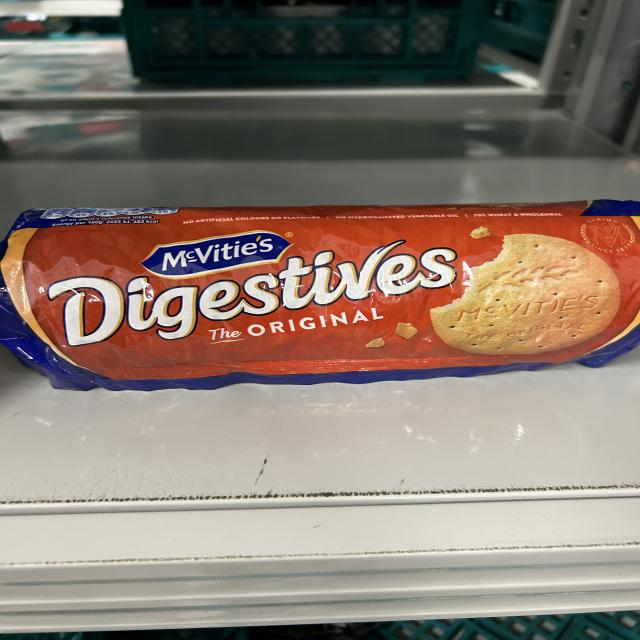object_name: (12, 209, 638, 363)
